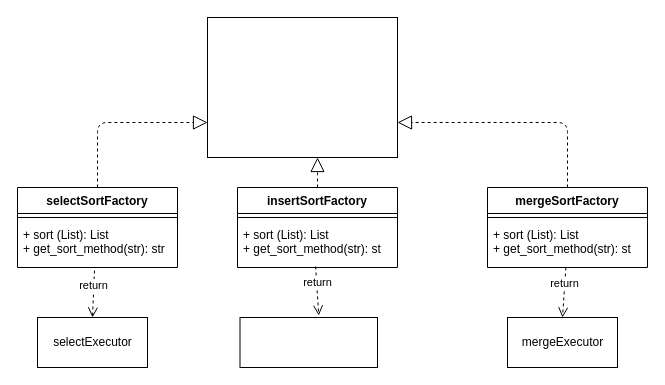
This 665x385 diagram has some shape labels left out. Here are the shapes that lost their labels. From the top down, the centre of each, then its label:
[302,87]: <<Interface>> iSort + sort (List): List + get_sort_method(str): str
[308,342]: insertExecutor
